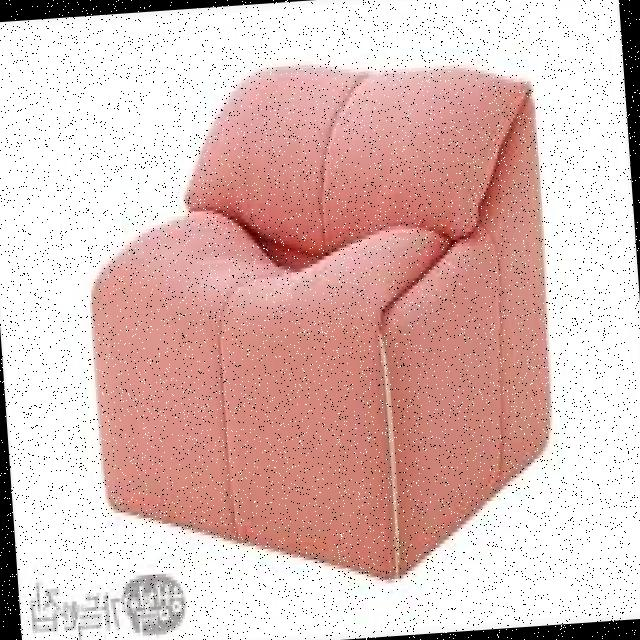Sofa: (28, 12, 610, 631)
